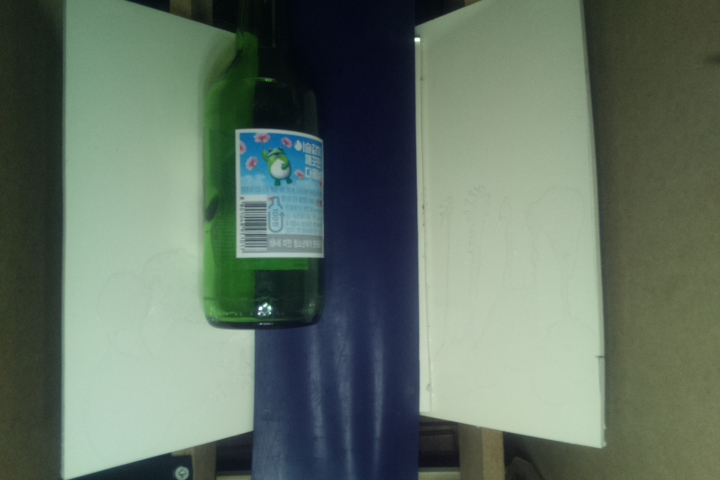soju: (198, 1, 335, 331)
